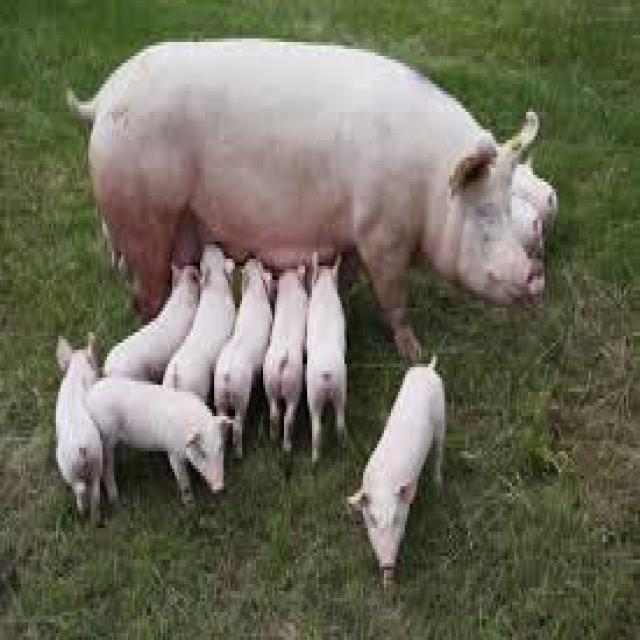pig: (64, 20, 548, 586)
